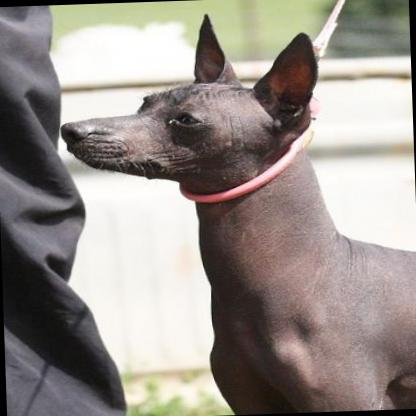Mexican_hairless: (54, 6, 416, 416)
